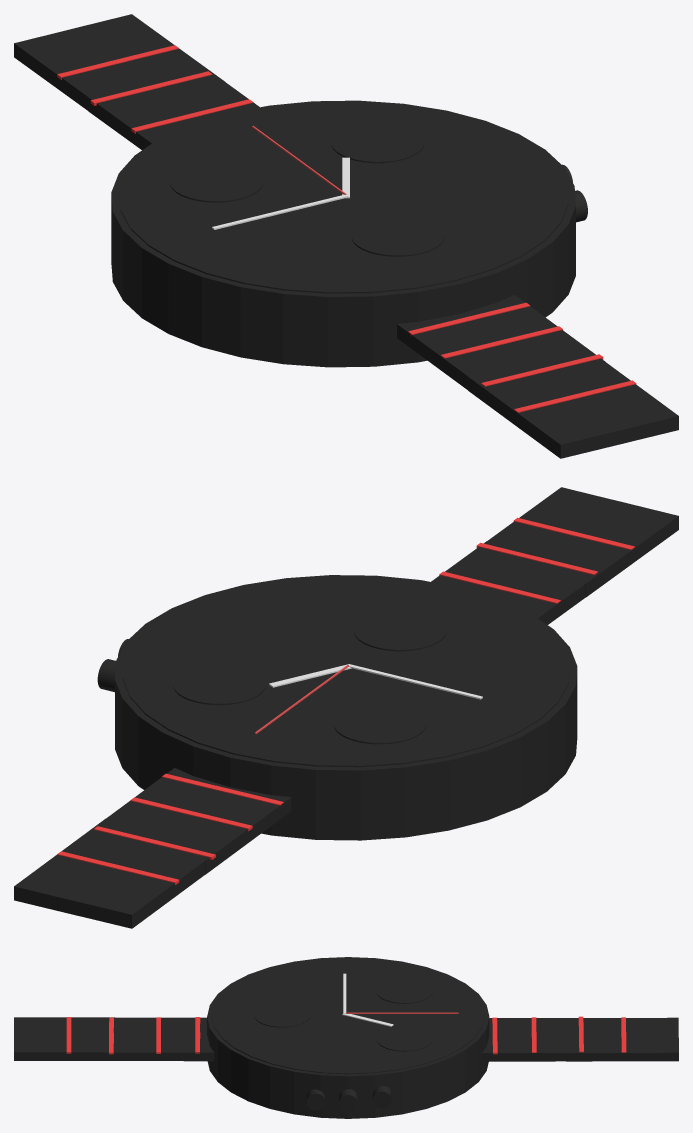
The model's file is Reloj5-3d.glb.
3 renders of one model, top to bottom at view 1: azimuth 30°, elevation 25°; view 2: azimuth 150°, elevation 25°; view 3: azimuth 270°, elevation 25°, orthographic. The views are drawn at different scales.
Parts seen in each view (by area): view 1: Dial, Watch_Body, Strap_Bottom.001, Strap_Bottom.005, Strap_Bottom.002, Strap_Bottom, Strap_Bottom.006, Strap_Bottom.003, Strap_Bottom.004, Subdial_2, Subdial_1, Subdial_3 (+1 smaller); view 2: Dial, Watch_Body, Strap_Bottom.001, Strap_Bottom.005, Strap_Bottom.006, Strap_Bottom.004, Strap_Bottom.002, Strap_Bottom.007, Strap_Bottom, Subdial_1, Subdial_2, Subdial_3 (+1 smaller); view 3: Dial, Watch_Body, Strap_Bottom.002, Strap_Bottom.006, Strap_Bottom.003, Strap_Bottom.007, Strap_Bottom, Strap_Bottom.004, Strap_Bottom.005, Strap_Bottom.001, Subdial_3, Subdial_2 (+4 smaller).
Boxes of the visible parts, x1=… form: Dial: x1=119, y1=102, x2=568, y2=293; Watch_Body: x1=111, y1=100, x2=575, y2=367; Strap_Bottom.001: x1=468, y1=372, x2=627, y2=458; Strap_Bottom.005: x1=14, y1=27, x2=173, y2=110; Strap_Bottom.002: x1=520, y1=348, x2=678, y2=442; Strap_Bottom: x1=397, y1=311, x2=553, y2=390; Strap_Bottom.006: x1=65, y1=14, x2=225, y2=97; Strap_Bottom.003: x1=453, y1=295, x2=605, y2=377; Strap_Bottom.004: x1=88, y1=81, x2=207, y2=149; Subdial_2: x1=331, y1=122, x2=424, y2=163; Subdial_1: x1=170, y1=162, x2=262, y2=202; Subdial_3: x1=351, y1=216, x2=444, y2=256; Dial: x1=122, y1=577, x2=569, y2=767; Watch_Body: x1=115, y1=575, x2=577, y2=840; Strap_Bottom.001: x1=519, y1=499, x2=678, y2=597; Strap_Bottom.005: x1=65, y1=845, x2=222, y2=928; Strap_Bottom.006: x1=14, y1=818, x2=171, y2=916; Strap_Bottom.004: x1=140, y1=784, x2=291, y2=874; Strap_Bottom.002: x1=468, y1=487, x2=622, y2=567; Strap_Bottom.007: x1=88, y1=768, x2=219, y2=848; Strap_Bottom: x1=482, y1=554, x2=604, y2=624; Subdial_1: x1=334, y1=704, x2=426, y2=744; Subdial_2: x1=173, y1=664, x2=265, y2=705; Subdial_3: x1=354, y1=611, x2=446, y2=651; Dial: x1=211, y1=958, x2=484, y2=1074; Watch_Body: x1=207, y1=957, x2=489, y2=1118; Strap_Bottom.002: x1=14, y1=1032, x2=126, y2=1060; Strap_Bottom.006: x1=566, y1=1033, x2=678, y2=1061; Strap_Bottom.003: x1=103, y1=1037, x2=214, y2=1061; Strap_Bottom.007: x1=482, y1=1038, x2=589, y2=1061; Strap_Bottom: x1=103, y1=1017, x2=207, y2=1037; Strap_Bottom.004: x1=488, y1=1018, x2=588, y2=1037; Strap_Bottom.005: x1=589, y1=1017, x2=678, y2=1037; Strap_Bottom.001: x1=14, y1=1017, x2=126, y2=1032; Subdial_3: x1=254, y1=1003, x2=310, y2=1027; Subdial_2: x1=376, y1=1027, x2=432, y2=1051.
Bounding box in the file's own units: 3.15 × 0.545 × 7.07.
